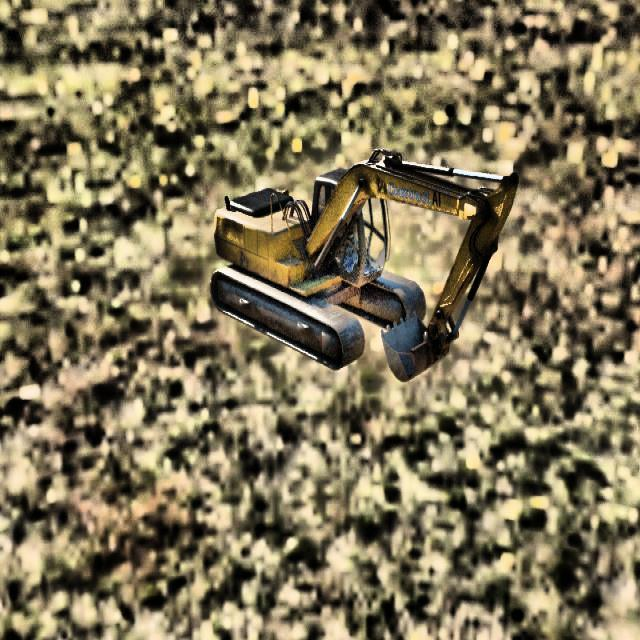excavator: (209, 148, 518, 382)
